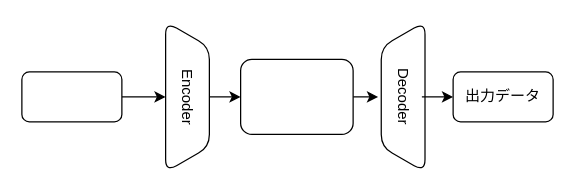
Some shapes in this 575 by 194 pixel diagram are drawn without their labels. The shapes that lost their labels are listed below. From the top down, each one's centre as x and y in pixels, then its label:
At [71,96]: "入力データ".
At [296,96]: "潜在変数 z z ~ N(0, 1)".
